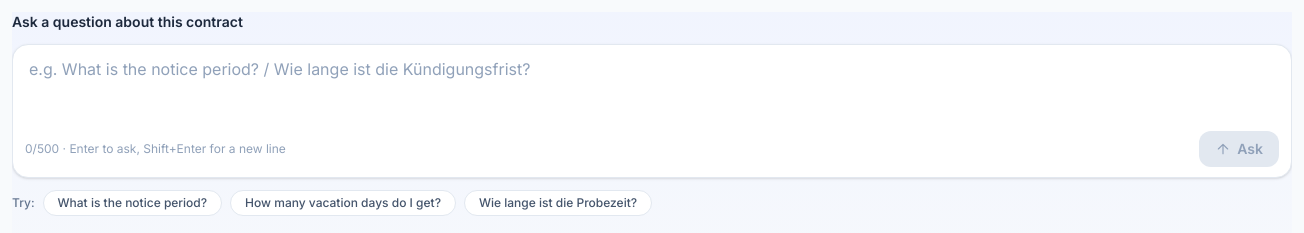
QuestionForm › counts characters against the 500 limit
This screenshot has width=1304, height=233.
Type "Hello" into the text box with test id "question-input".
click(652, 111); type("Hello")  # box 13,45 -> 1291,177
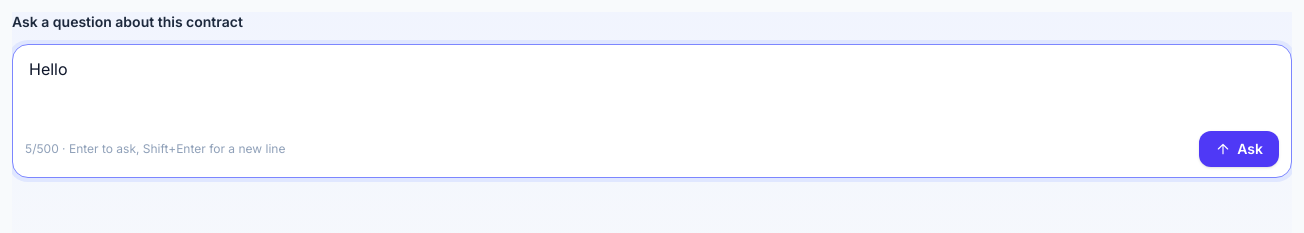
expect the text "5/500 · Enter to ask, Shift+Enter for a new line" is shown: met, box 25,141 -> 285,157
